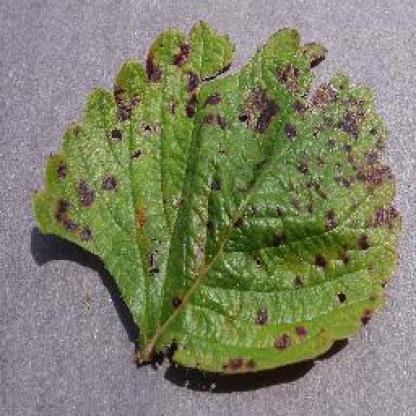leaf scorch: (18, 8, 403, 393)
